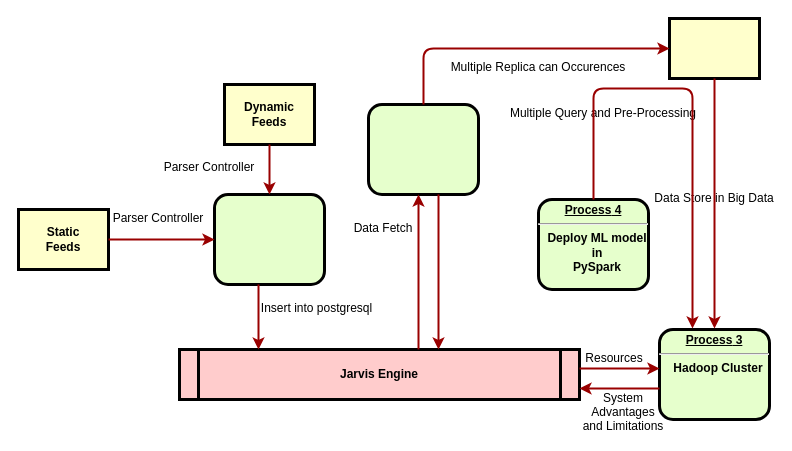
This 792x451 diagram has some shape labels left out. Each missing label, with the box of its shape:
Process 1 Pre-Process: (212, 192, 326, 286)
Process 2 Data Replication / Logical Division: (366, 102, 480, 196)
Replica DB: (668, 16, 760, 80)
